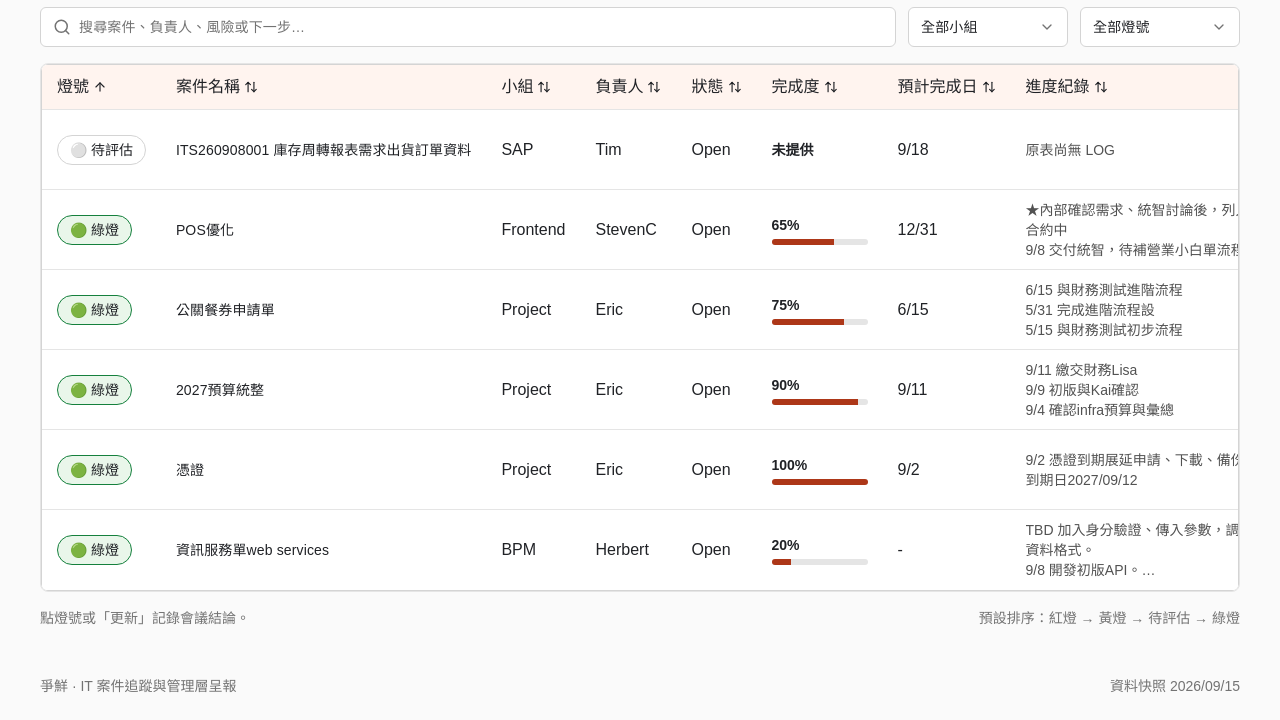
Test: MeetingView（US-006） › 將原表綠燈改為紅燈：排入紅燈、統計更新、標示本機修改、更新日期為今天（SC-007）
(page scrolled)
Click the button with aria-label "修改憑證燈號" at (94, 470), box [57,454,132,484]
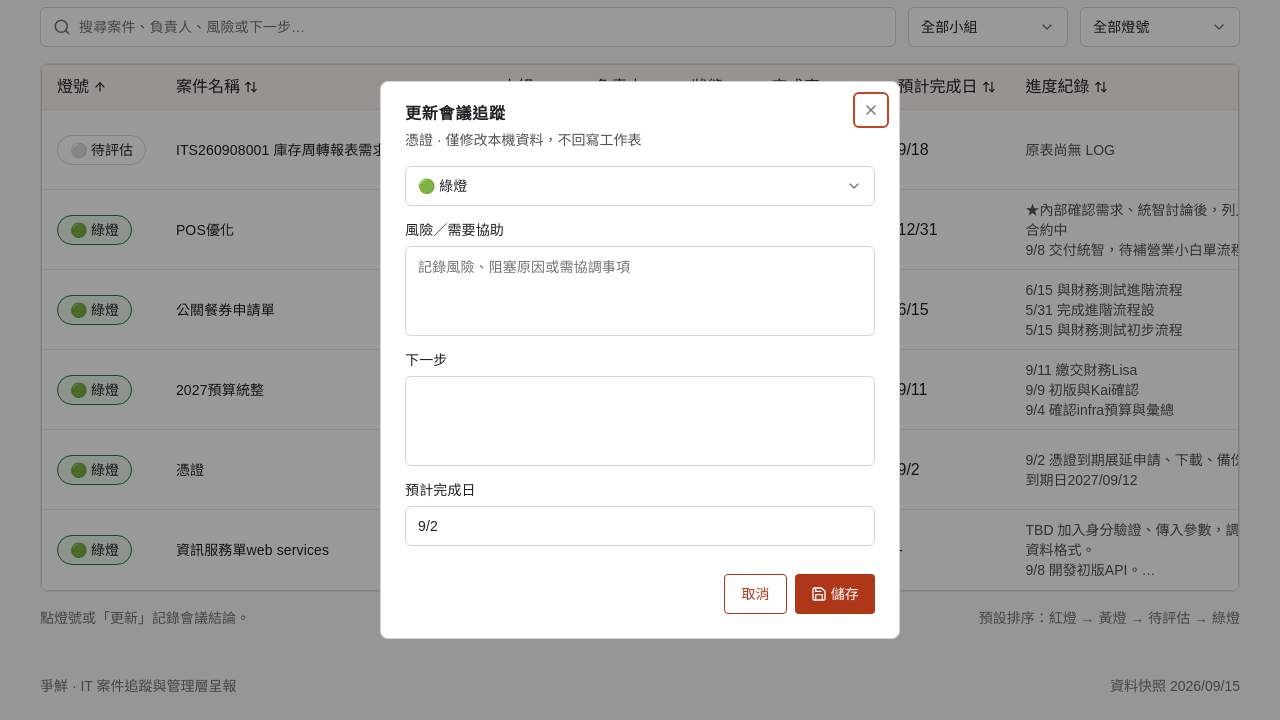
Click the dropdown named "人工燈號" at (443, 186), box [405,166,875,206]
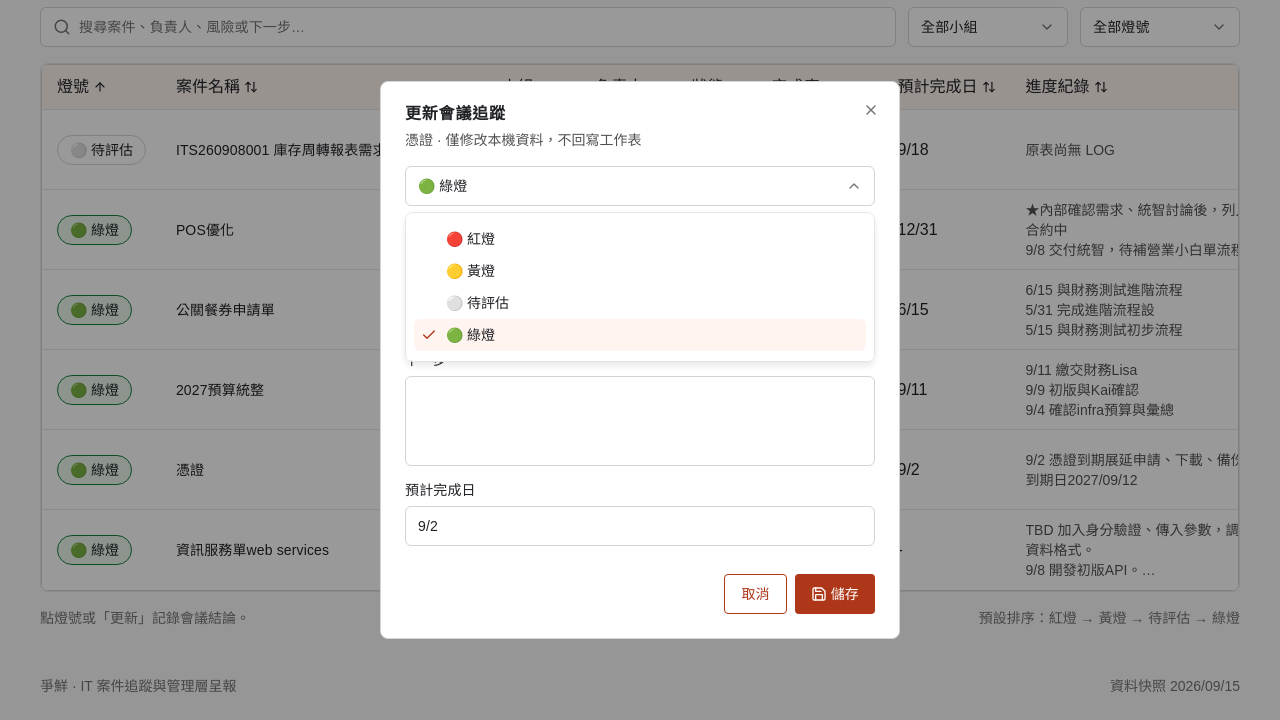
Click the option "🔴 紅燈" at (470, 239), box [446,231,495,247]
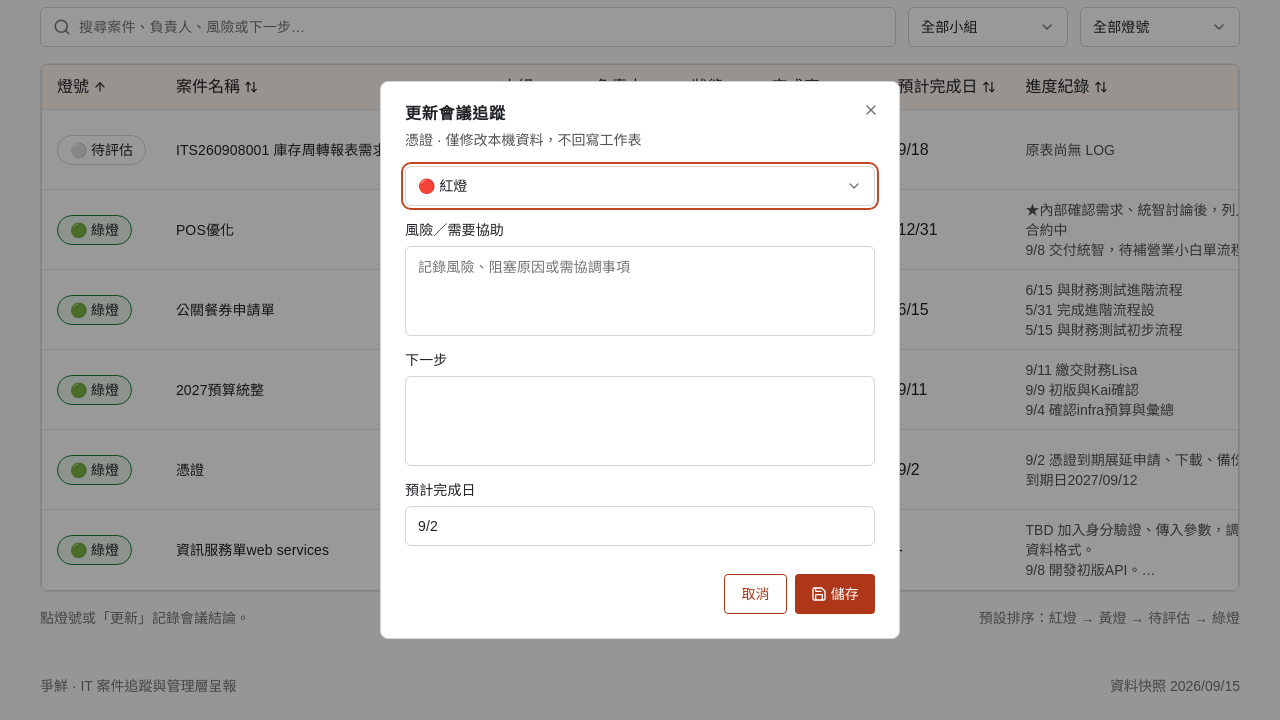
Type "廠商未回覆" into the text box labelled "風險／需要協助" at (640, 291), box [405,246,875,336]
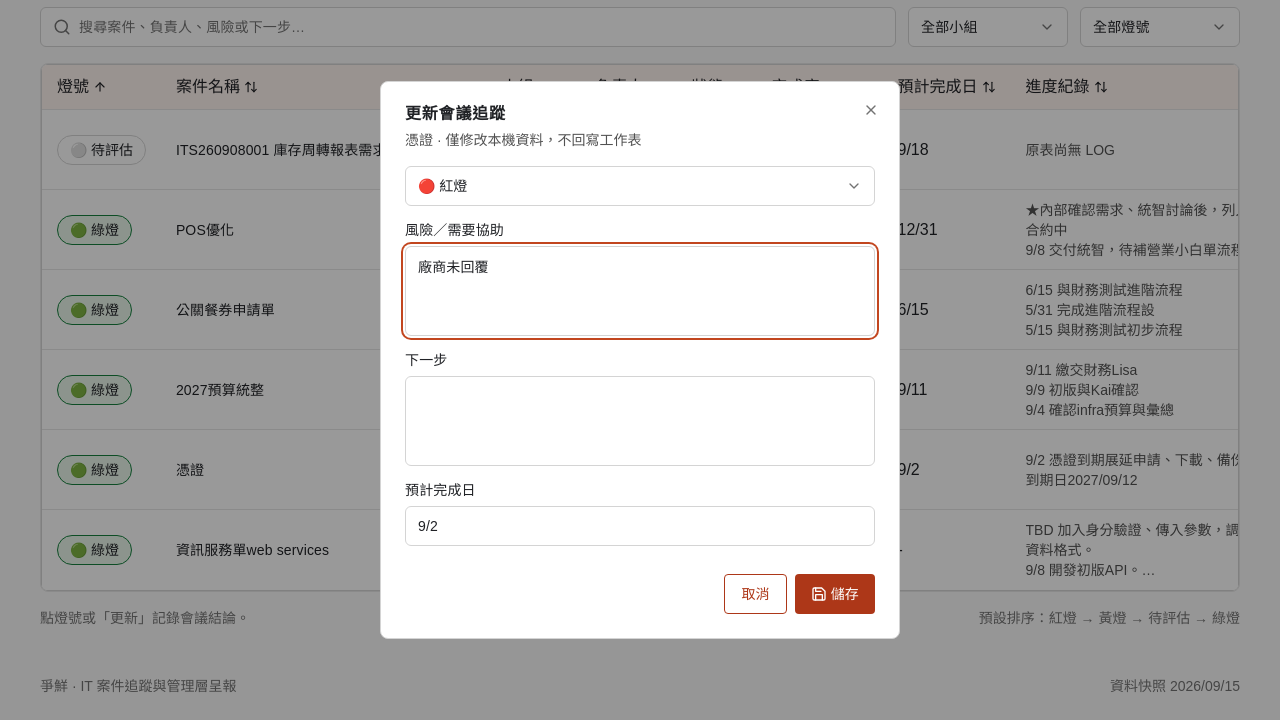
Type "週五前確認" into the text box labelled "下一步" at (640, 421), box [405,376,875,466]
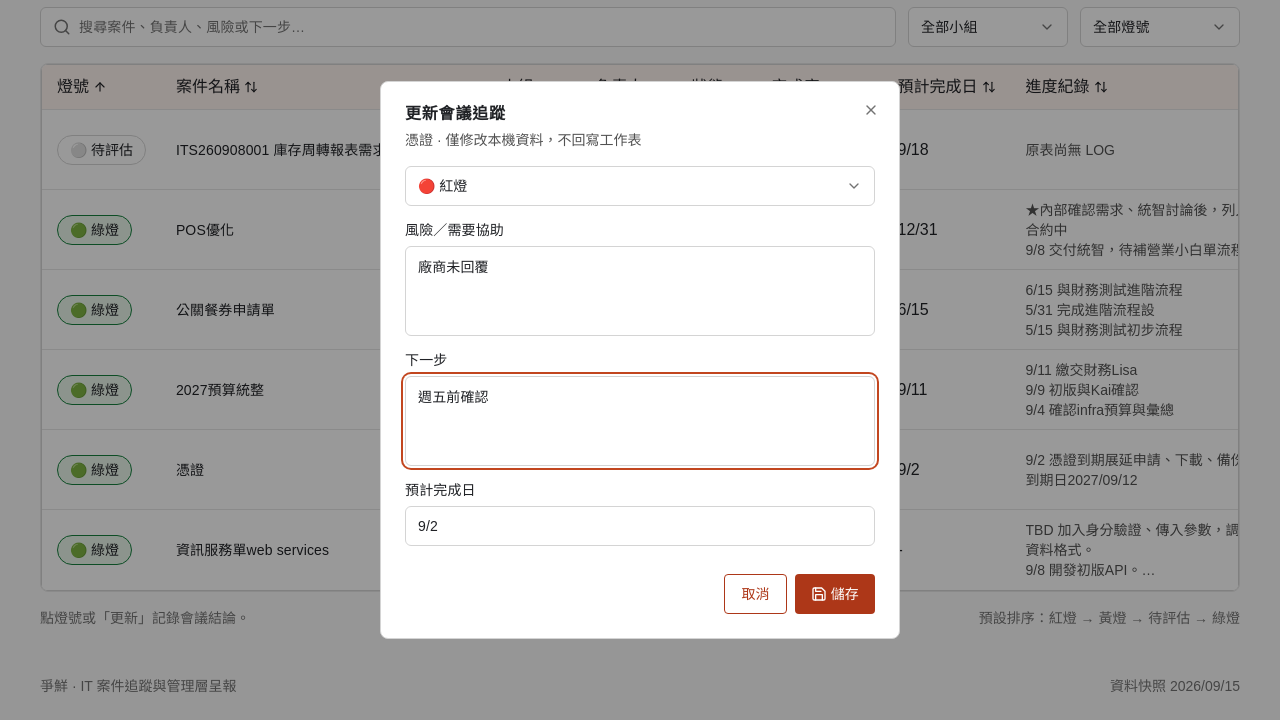
Click the button "儲存" at (835, 594), box [795,574,875,614]
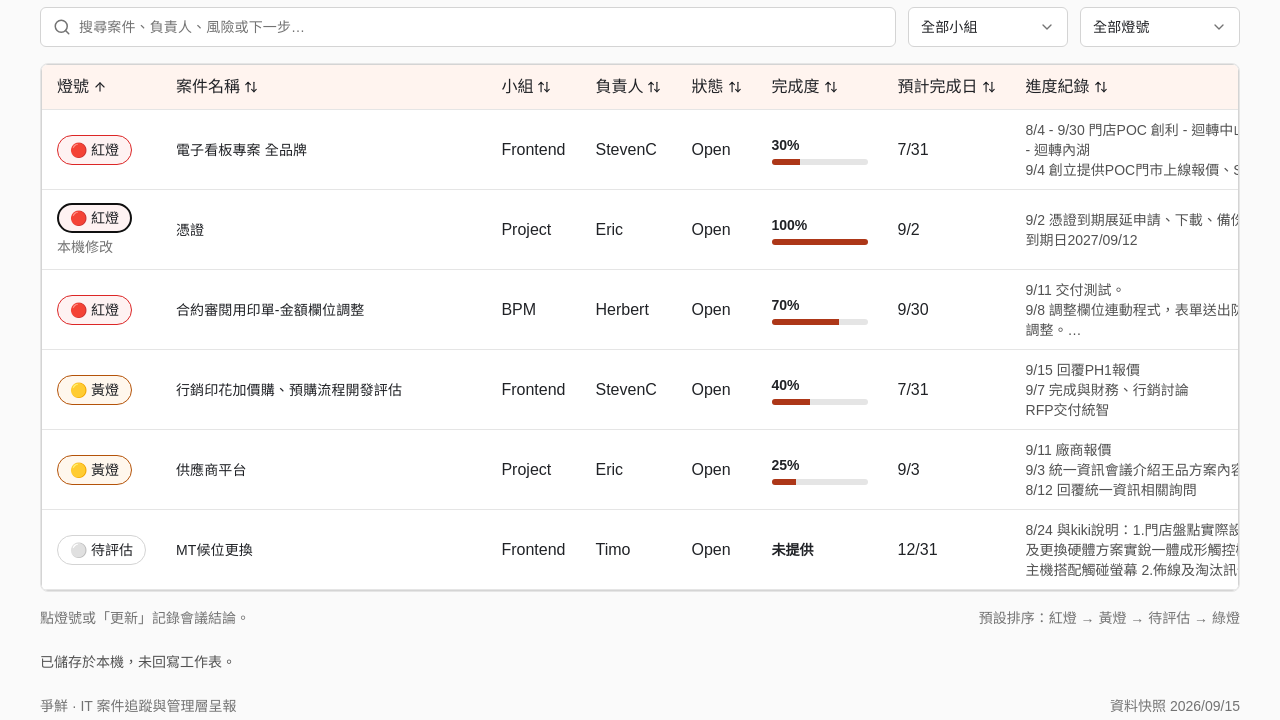
Now the row that starts with "🔴 紅燈" shows "本機修改", box [57,238,113,254]
Now the message shows "未回寫工作表", box [40,654,236,670]
